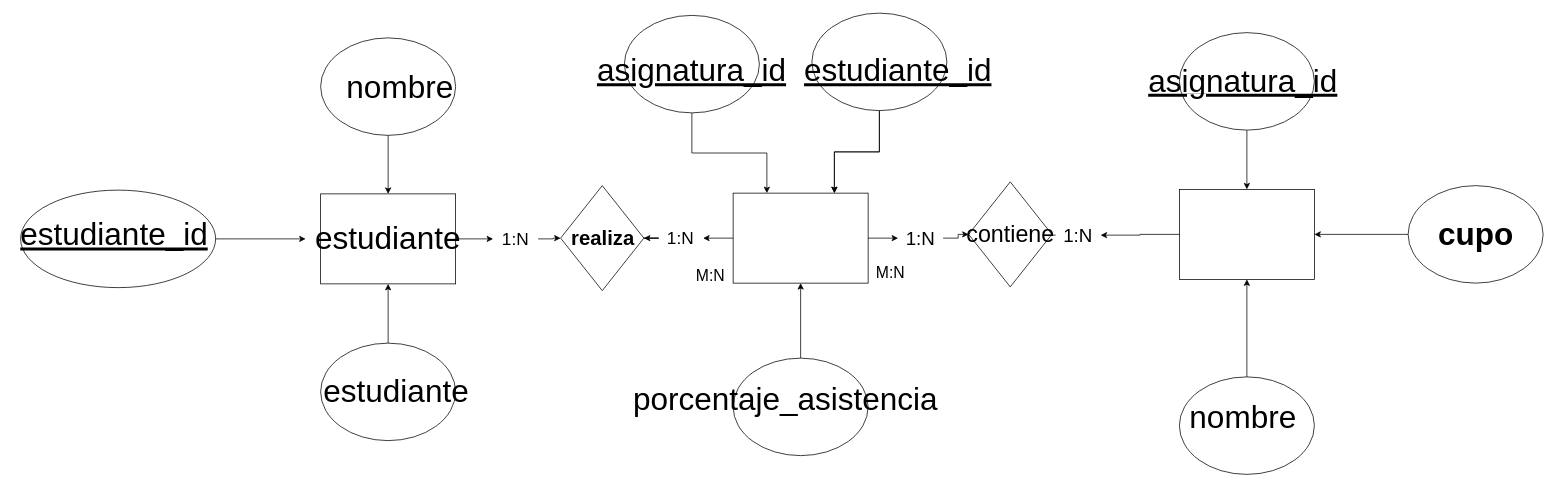
The diagram is 1556 pixels wide and 488 high, and some of its shapes have lost their labels. The shapes that lost their labels are listed below. From the top down, each one's centre as x and y in pixels, then its label:
At (800,237): "inscripcion".
At (1246,234): "asignatura".
